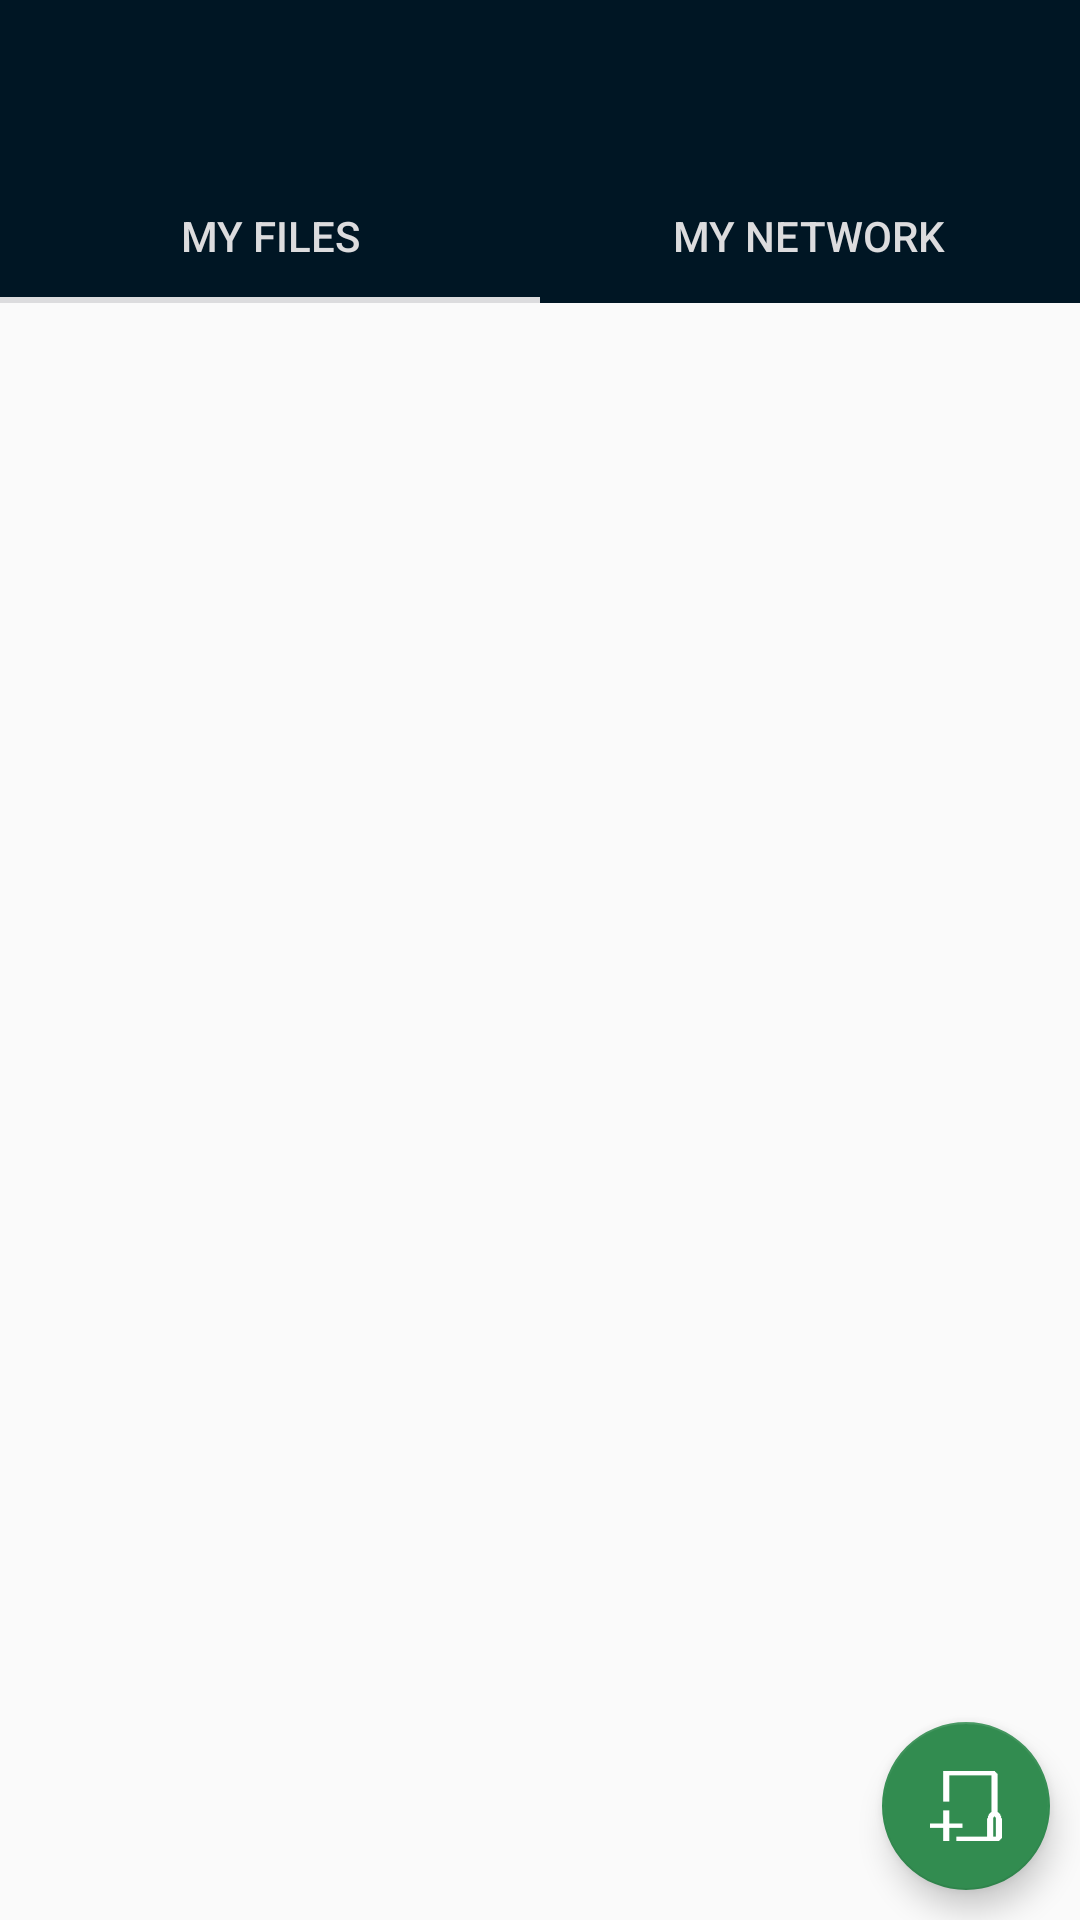

Locate icon controls on the screen. Image size 1080×1920, boxes as (x1, y1, x2, y2).
add files: (882, 1722, 1050, 1890)
